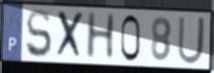0: (120, 13, 142, 63)
8: (150, 15, 173, 63)
H: (84, 11, 117, 61)
S: (25, 8, 54, 60)
U: (176, 15, 208, 67)
X: (54, 9, 86, 61)
